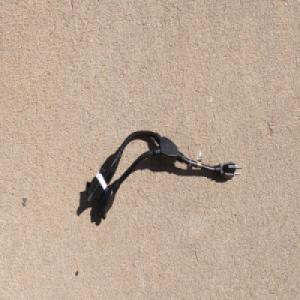Wire: (83, 130, 244, 222)
